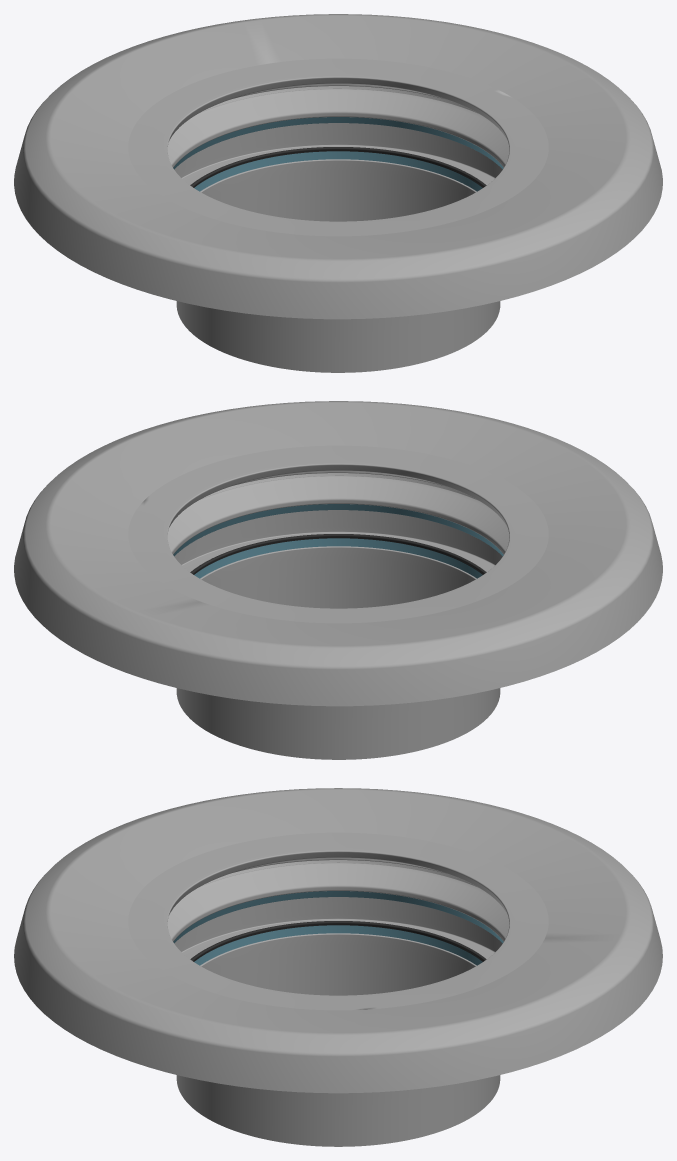
File: ArenaSurrounding.fbx
The picture shows the model from 3 angles, top to bottom: view 1: azimuth 30°, elevation 25°; view 2: azimuth 150°, elevation 25°; view 3: azimuth 270°, elevation 25°; orthographic projection.
Visible parts, largest first — view 1: Arena.001, ArenaLight; view 2: Arena.001, ArenaLight; view 3: Arena.001, ArenaLight.
Part boxes in pixels (x1,y1,x2,y2): Arena.001: (14,14,662,372); ArenaLight: (202,86,474,111); Arena.001: (14,401,662,759); ArenaLight: (202,473,474,498); Arena.001: (14,788,662,1146); ArenaLight: (202,860,474,885).
Bounding box in the file's own units: 92.41 × 26.25 × 92.41.
